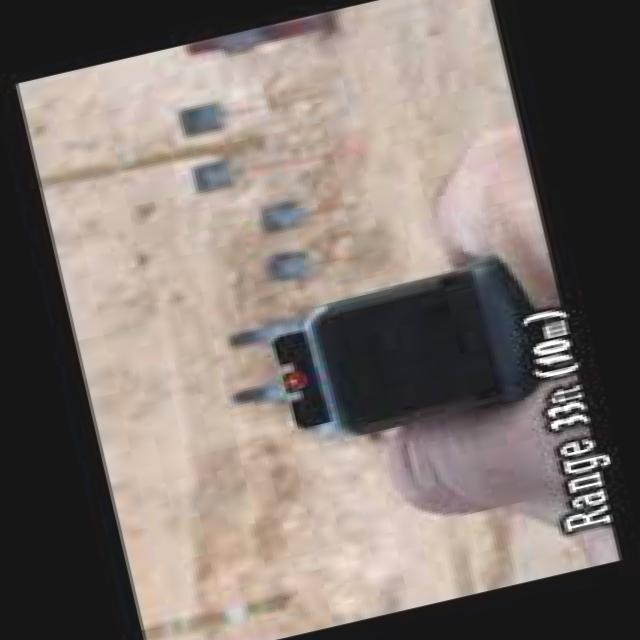handgun: (246, 246, 560, 469)
